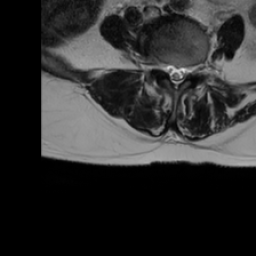CCS_normal: (171, 60, 180, 94)
LFS_normal: (188, 59, 195, 79)
LLS_normal: (180, 61, 188, 86)
RFS_normal: (156, 54, 164, 77)
RLS_normal: (163, 56, 172, 81)
